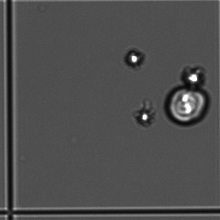Living Cell: (163, 83, 212, 127), (122, 46, 145, 71), (181, 67, 209, 86), (133, 106, 155, 127)
